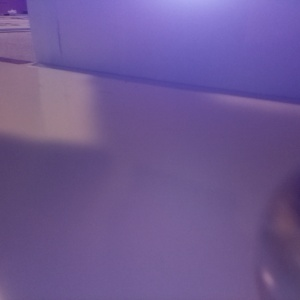alive_ball: (243, 183, 300, 300)
dead_ball: (179, 95, 300, 228), (1, 208, 113, 299)
